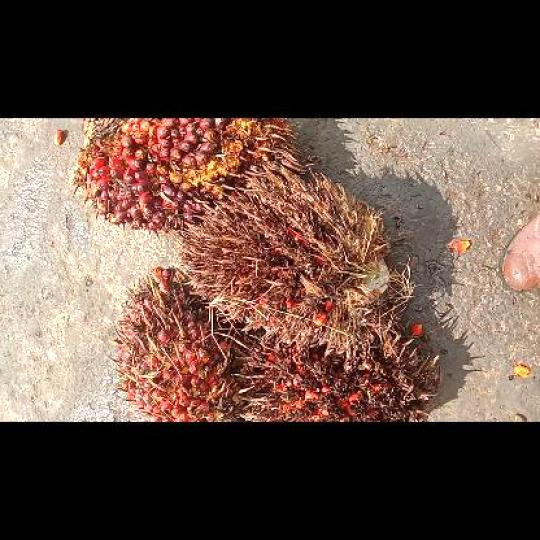masak: (70, 118, 300, 238), (103, 268, 253, 420)
terlalu masak: (171, 163, 411, 361), (228, 330, 439, 420)
